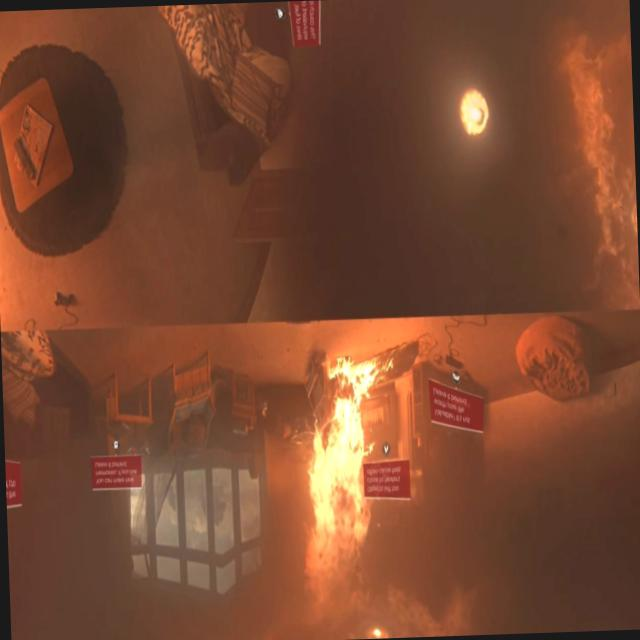fire: (294, 360, 385, 608)
